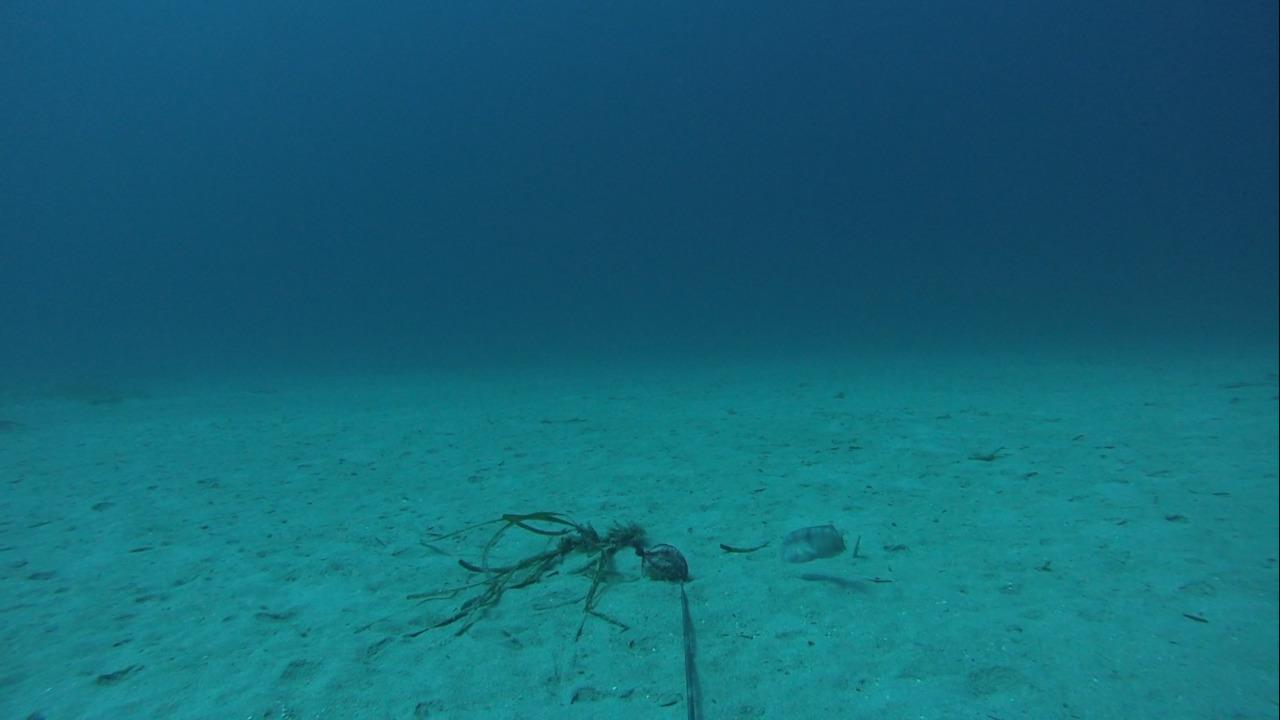raor: (772, 518, 847, 569)
